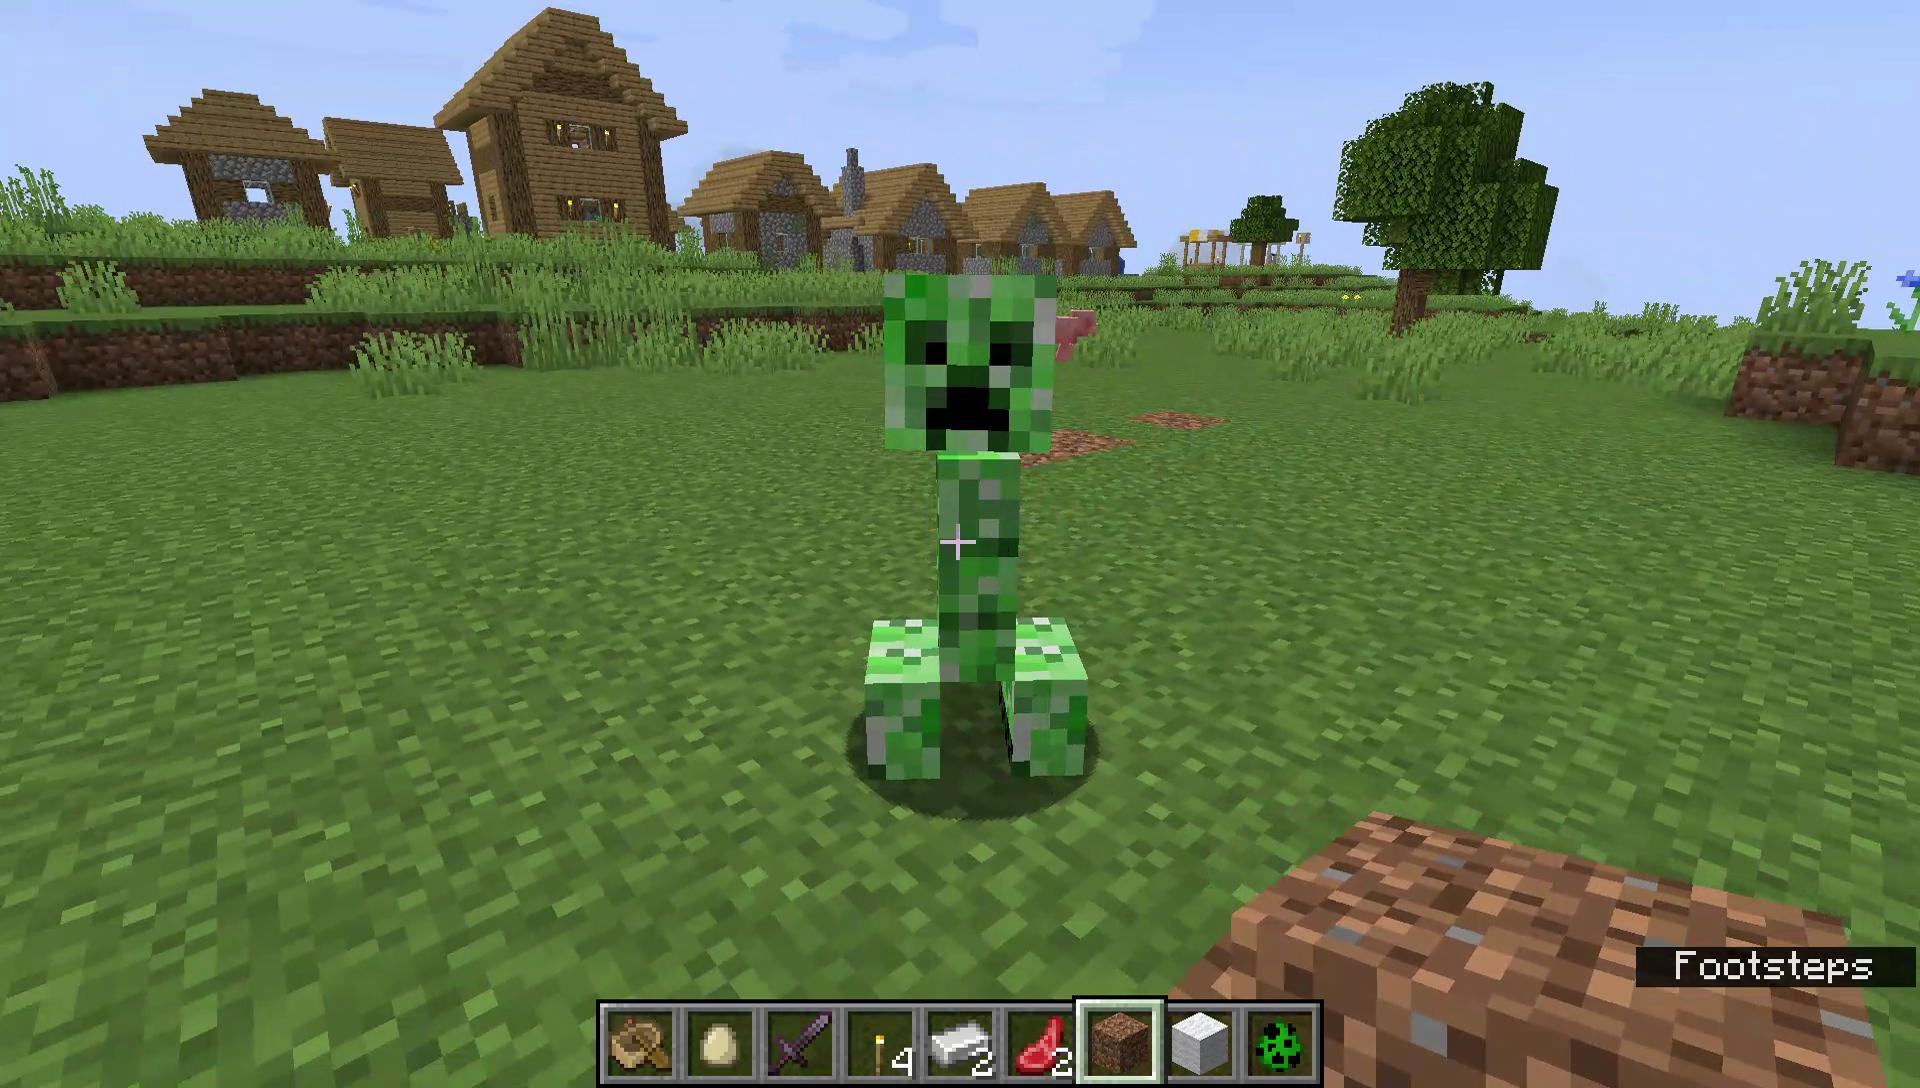creeper: (853, 260, 1098, 801)
pig: (1058, 310, 1097, 363)
